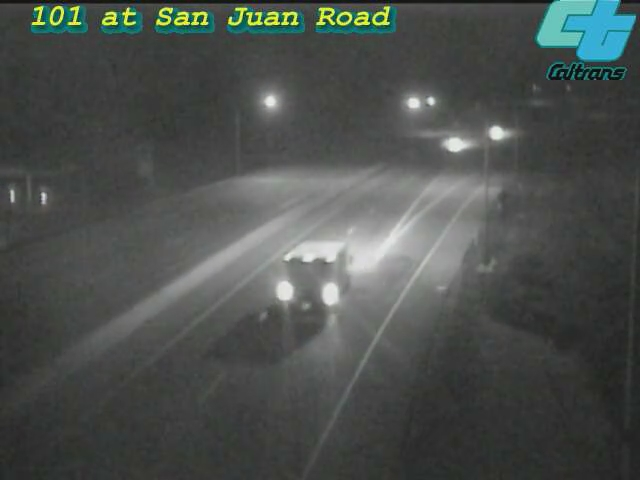vehicle: (255, 259, 335, 339), (470, 108, 520, 158), (427, 119, 477, 169)
